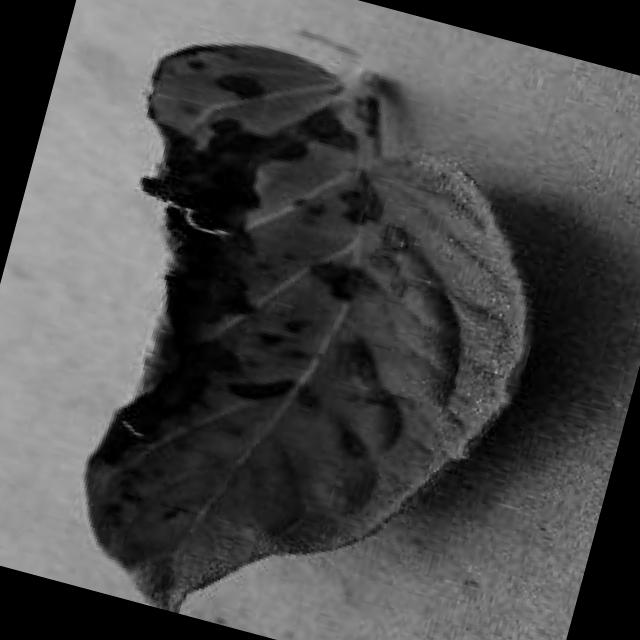leaf blight: (81, 43, 533, 613)
